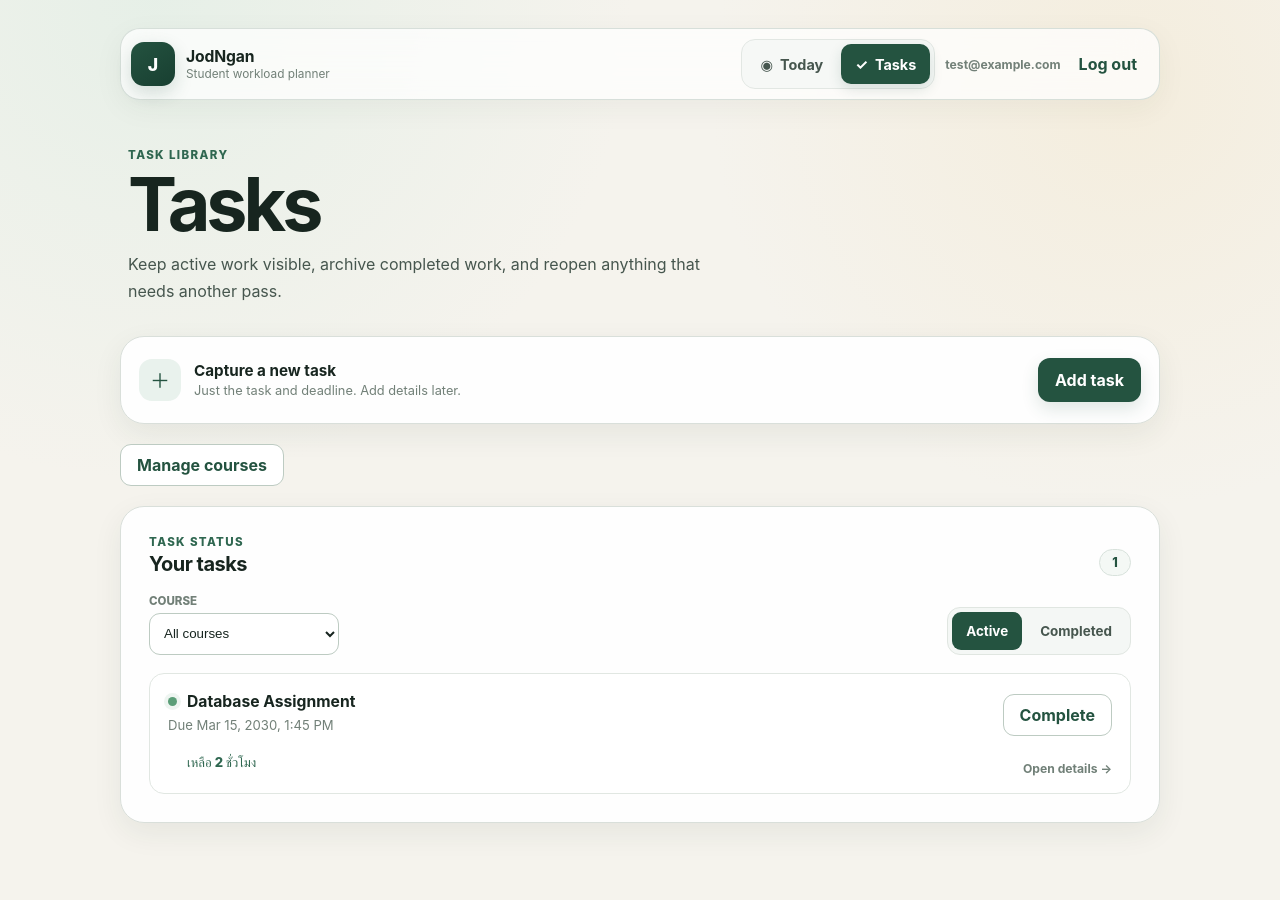
Test: Task lifecycle flow › completes an active task and moves it to the completed tab
This screenshot has width=1280, height=900.
Click the button "Complete": [1057, 715] box [1003, 694, 1112, 736]
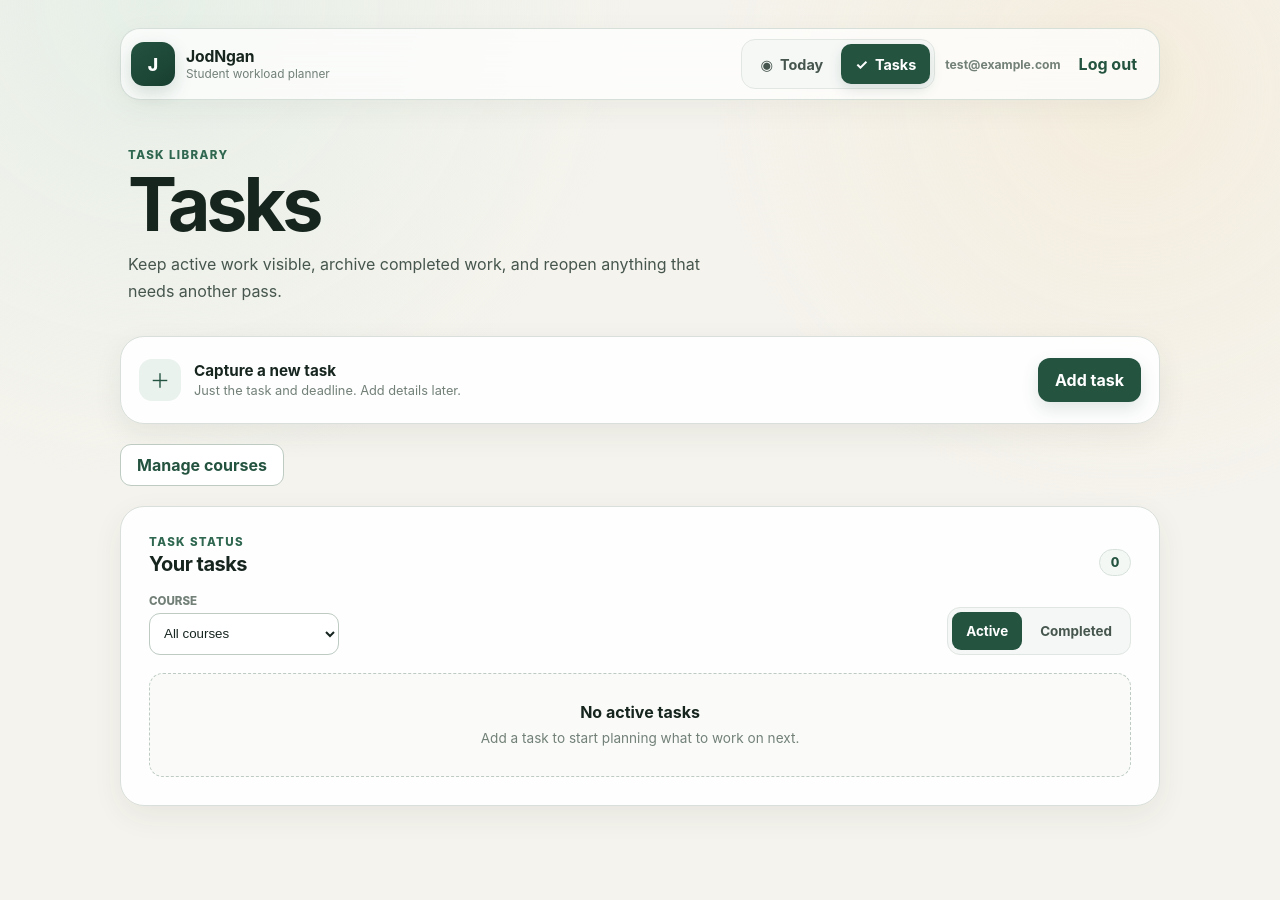
Check: the heading "No active tasks" is shown, box [580, 702, 700, 722]
Click the tab "Completed": [1076, 631] box [1026, 612, 1126, 650]
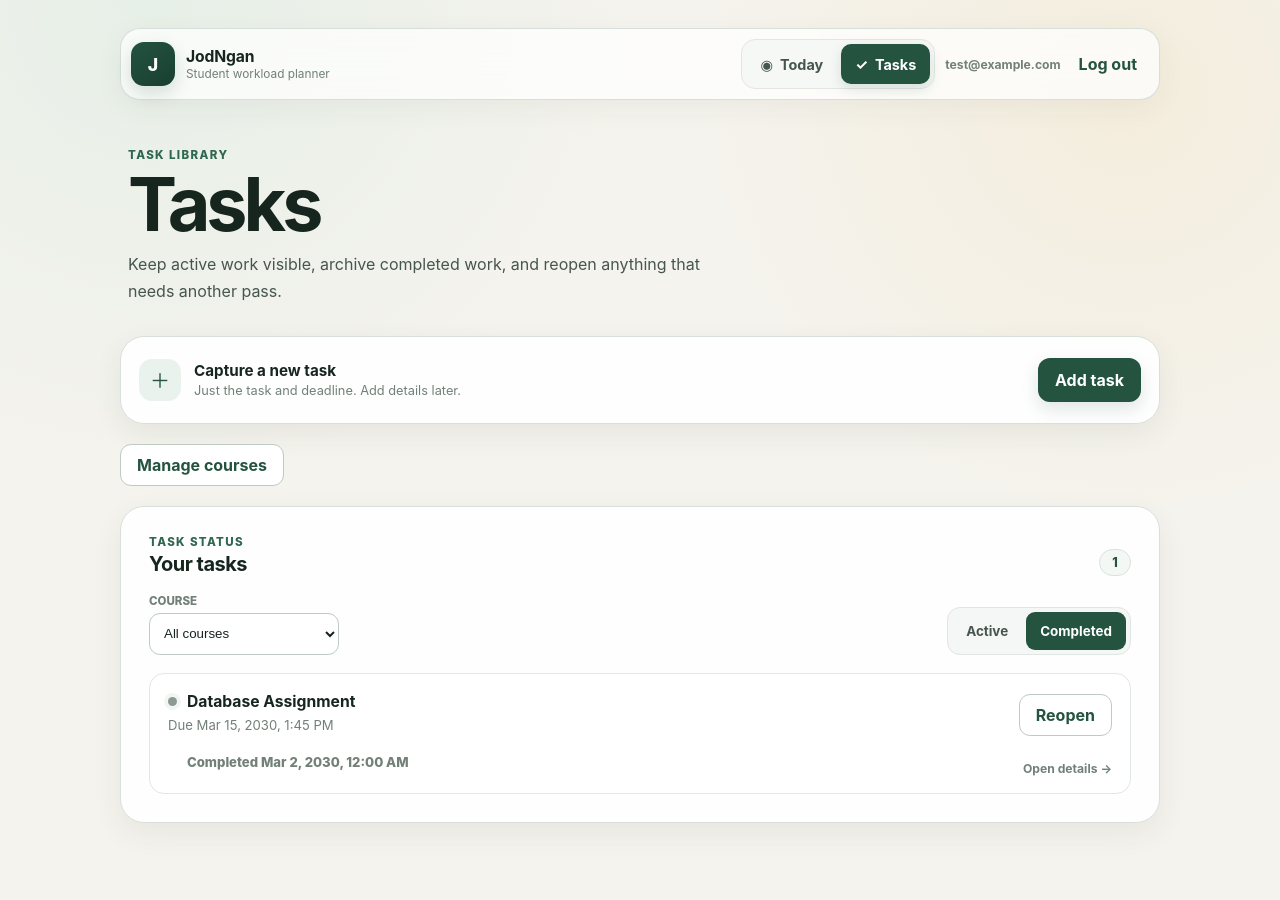
Check: the heading "Database Assignment" is shown, box [187, 691, 355, 712]
Check: the button "Reopen" is shown, box [1019, 694, 1112, 736]
